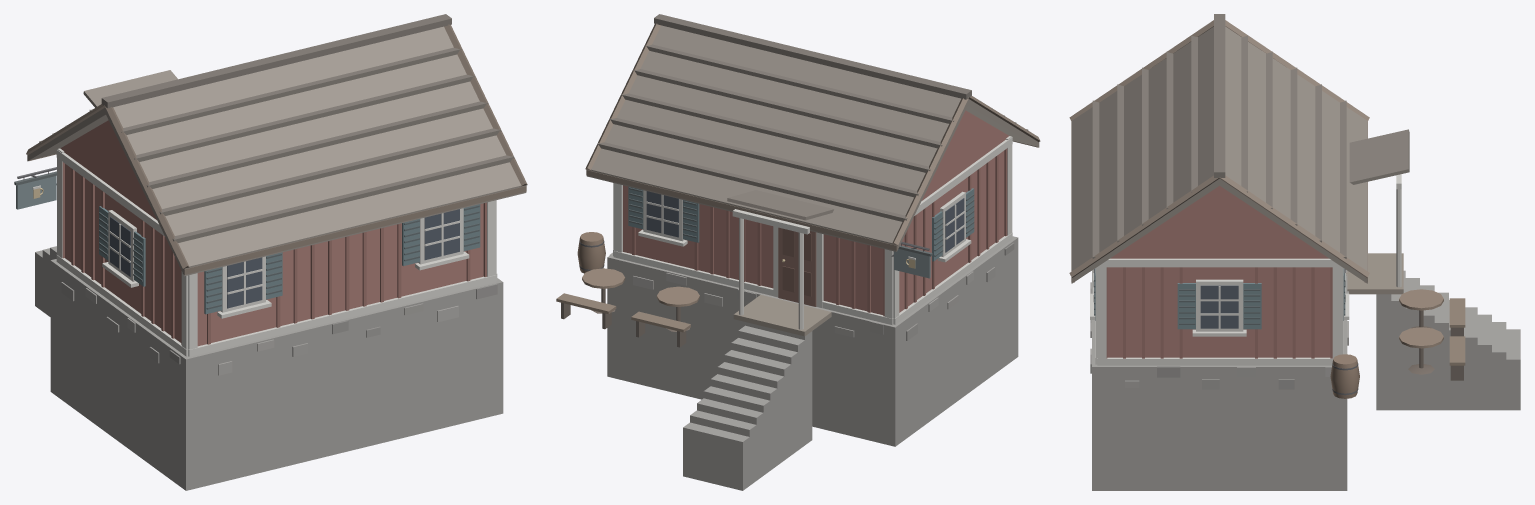
File: tavern_2.gltf
3 renders of one model, left to right at view 1: azimuth 30°, elevation 25°; view 2: azimuth 150°, elevation 25°; view 3: azimuth 270°, elevation 25°, orthographic. The views are drawn at different scales.
Visible parts, largest first — view 1: Body; view 2: Body; view 3: Body.
Part boxes in pixels (<box>): Body: <box>14,14,527,490</box>; Body: <box>556,14,1040,490</box>; Body: <box>1069,14,1520,490</box>.
Bounding box in the file's own units: 9.39 × 7.99 × 10.06.
